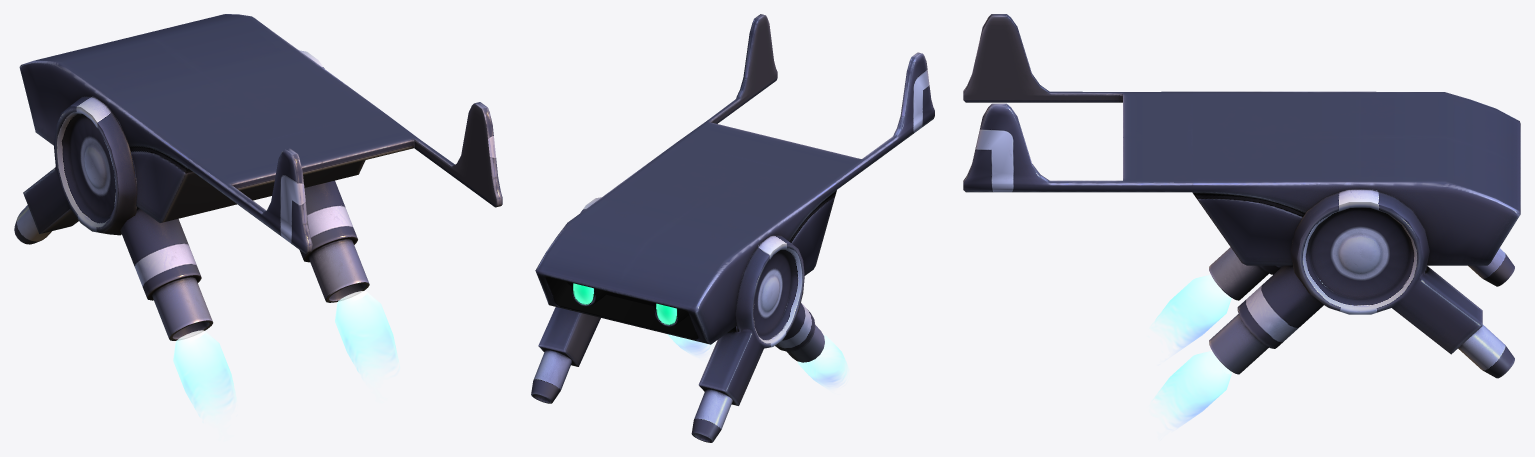
Rendered from drone.gltf.
3 views of the same model, side by side, from view 1: azimuth 30°, elevation 25°; view 2: azimuth 150°, elevation 25°; view 3: azimuth 270°, elevation 25° (orthographic). The views are drawn at different scales.
Visible parts, largest first — view 1: Box001, Object002_Material #5_0; view 2: Box001, Object002_Material #5_0; view 3: Box001, Object002_Material #5_0.
Boxes of the visible parts, x1,y1,x2,y2 form: Box001: [14, 14, 502, 340]; Object002_Material #5_0: [173, 291, 398, 418]; Box001: [531, 14, 934, 442]; Object002_Material #5_0: [667, 334, 848, 388]; Box001: [963, 14, 1520, 378]; Object002_Material #5_0: [1154, 274, 1231, 427].
Size of the model in its own units: 98.27 by 147 by 217.
Materials: 2 (2 with a texture image).
